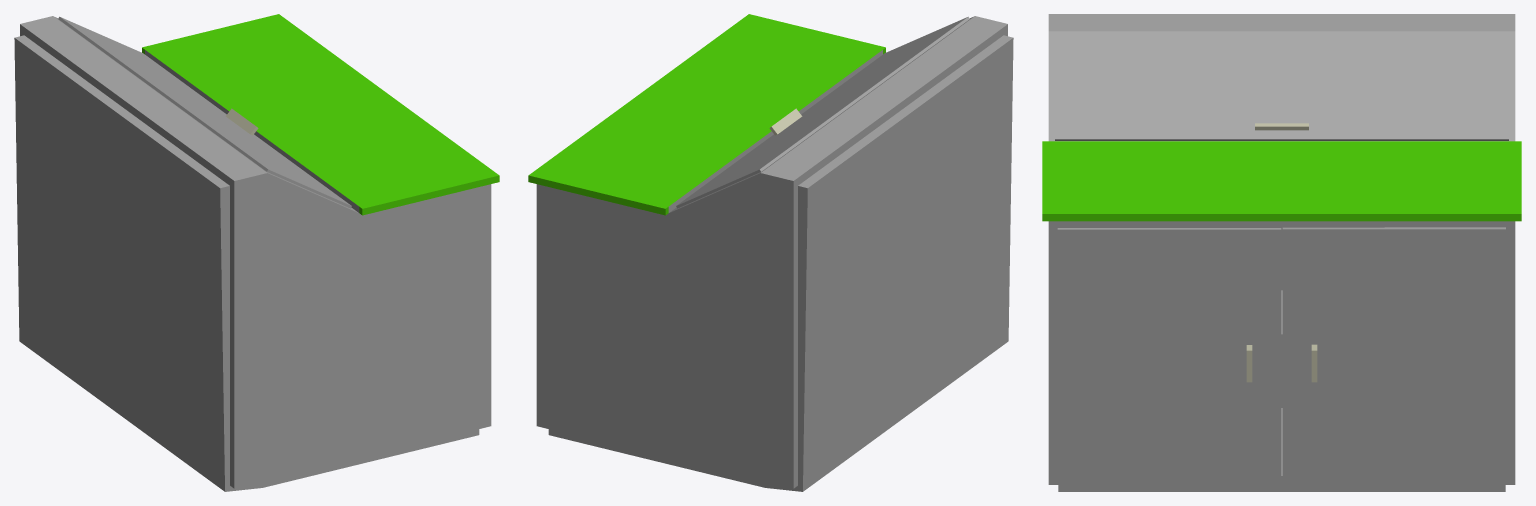
Rendered from BaseCabinet-Angletop.fbx.
3 views of the same model, side by side, from view 1: azimuth 30°, elevation 25°; view 2: azimuth 150°, elevation 25°; view 3: azimuth 270°, elevation 25° (orthographic). The views are drawn at different scales.
Parts seen in each view (by area): view 1: Cabinet, TopDoor; view 2: Cabinet, TopDoor; view 3: Cabinet, DoorL, DoorR, TopDoor.
Part boxes in pixels (x1,y1,x2,y2): Cabinet: [14, 14, 499, 491]; TopDoor: [58, 16, 351, 208]; Cabinet: [528, 14, 1013, 491]; TopDoor: [676, 16, 969, 208]; Cabinet: [1042, 14, 1521, 491]; DoorL: [1057, 228, 1281, 478]; DoorR: [1282, 227, 1505, 477]; TopDoor: [1055, 32, 1508, 140].
Bounding box in the file's own units: 80.71 × 87.43 × 110.
